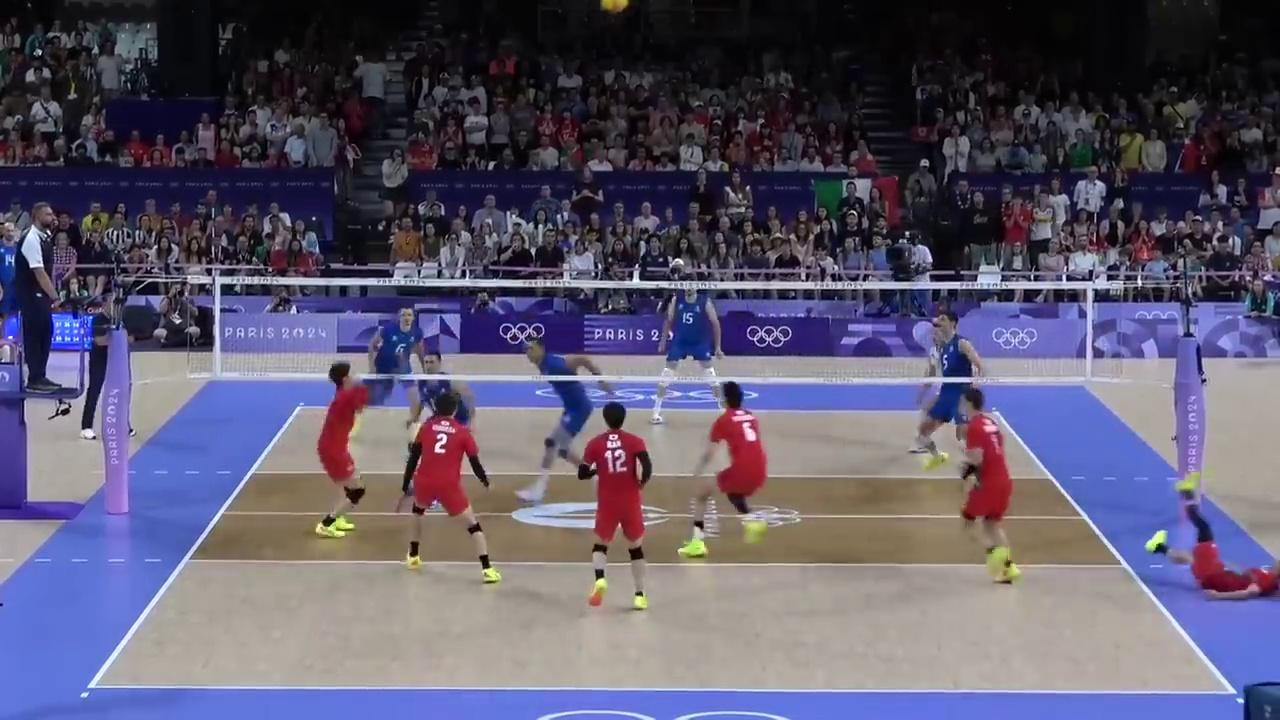ball: (600, 0, 628, 12)
